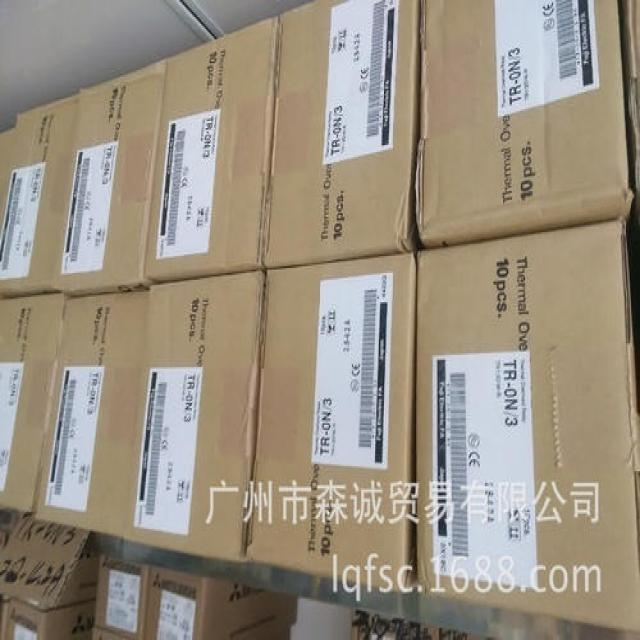box: (415, 218, 640, 633), (244, 253, 417, 592), (415, 0, 634, 247), (265, 0, 425, 271), (123, 271, 265, 565), (146, 14, 279, 282), (33, 292, 147, 539), (59, 56, 168, 299), (0, 94, 79, 299), (0, 290, 67, 514), (142, 567, 298, 640), (95, 556, 148, 638), (4, 597, 95, 640), (0, 126, 17, 212)
